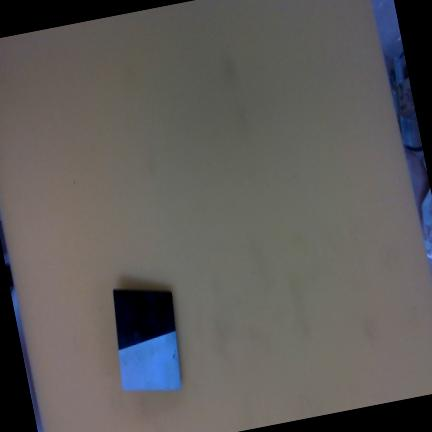tile: (113, 284, 182, 397)
